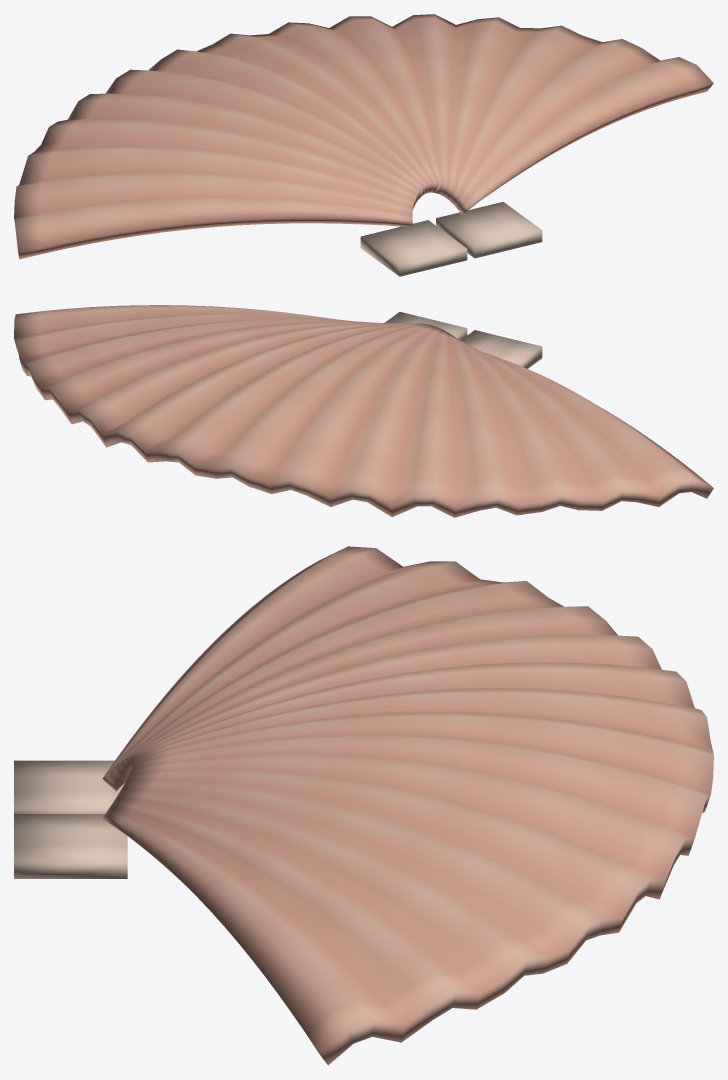
The model's file is beach-scallop.glb.
The picture shows the model from 3 angles, top to bottom: view 1: azimuth 30°, elevation 25°; view 2: azimuth 150°, elevation 25°; view 3: azimuth 270°, elevation 25°; orthographic projection. The views are drawn at different scales.
Visible parts, largest first — view 1: Beach_scallop; view 2: Beach_scallop; view 3: Beach_scallop.
Boxes of the visible parts, x1,y1,x2,y2 form: Beach_scallop: (14, 14, 713, 276); Beach_scallop: (14, 305, 713, 517); Beach_scallop: (14, 546, 713, 1065).
Size of the model in its own units: 1 by 0.1062 by 0.5986.
